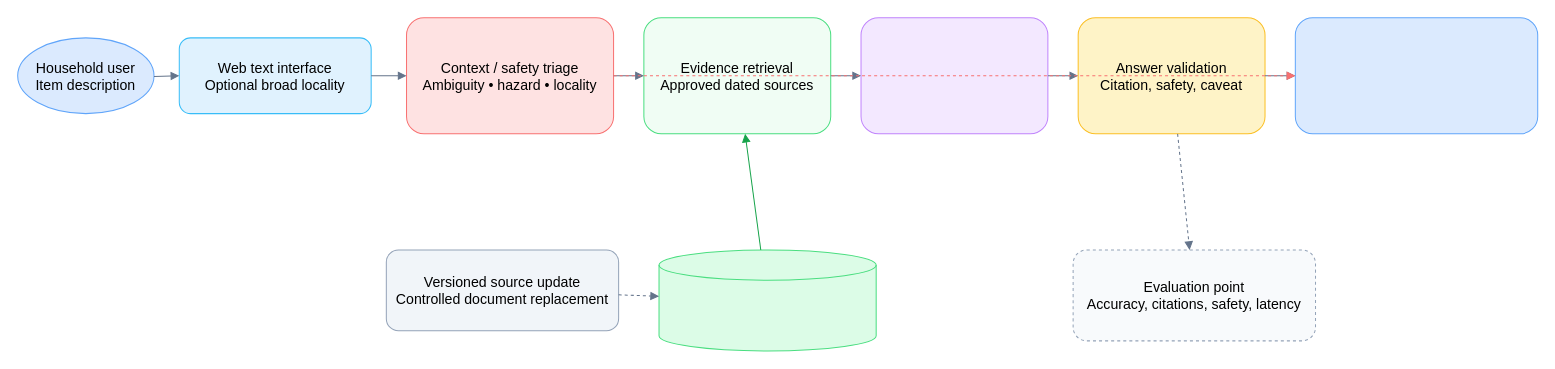
The diagram is 1555 pixels wide and 369 high, and some of its shapes have lost their labels. The shapes that lost their labels are listed below. From the top down, each one's centre as x and y in pixels, then its label:
the point at 954,75: AI item interpretation Tentative category + reason
the point at 1416,75: Output / clarification / referral Reason + official source link
the point at 767,300: Official sources JPSPN / DOE / KPKT Date and region metadata
